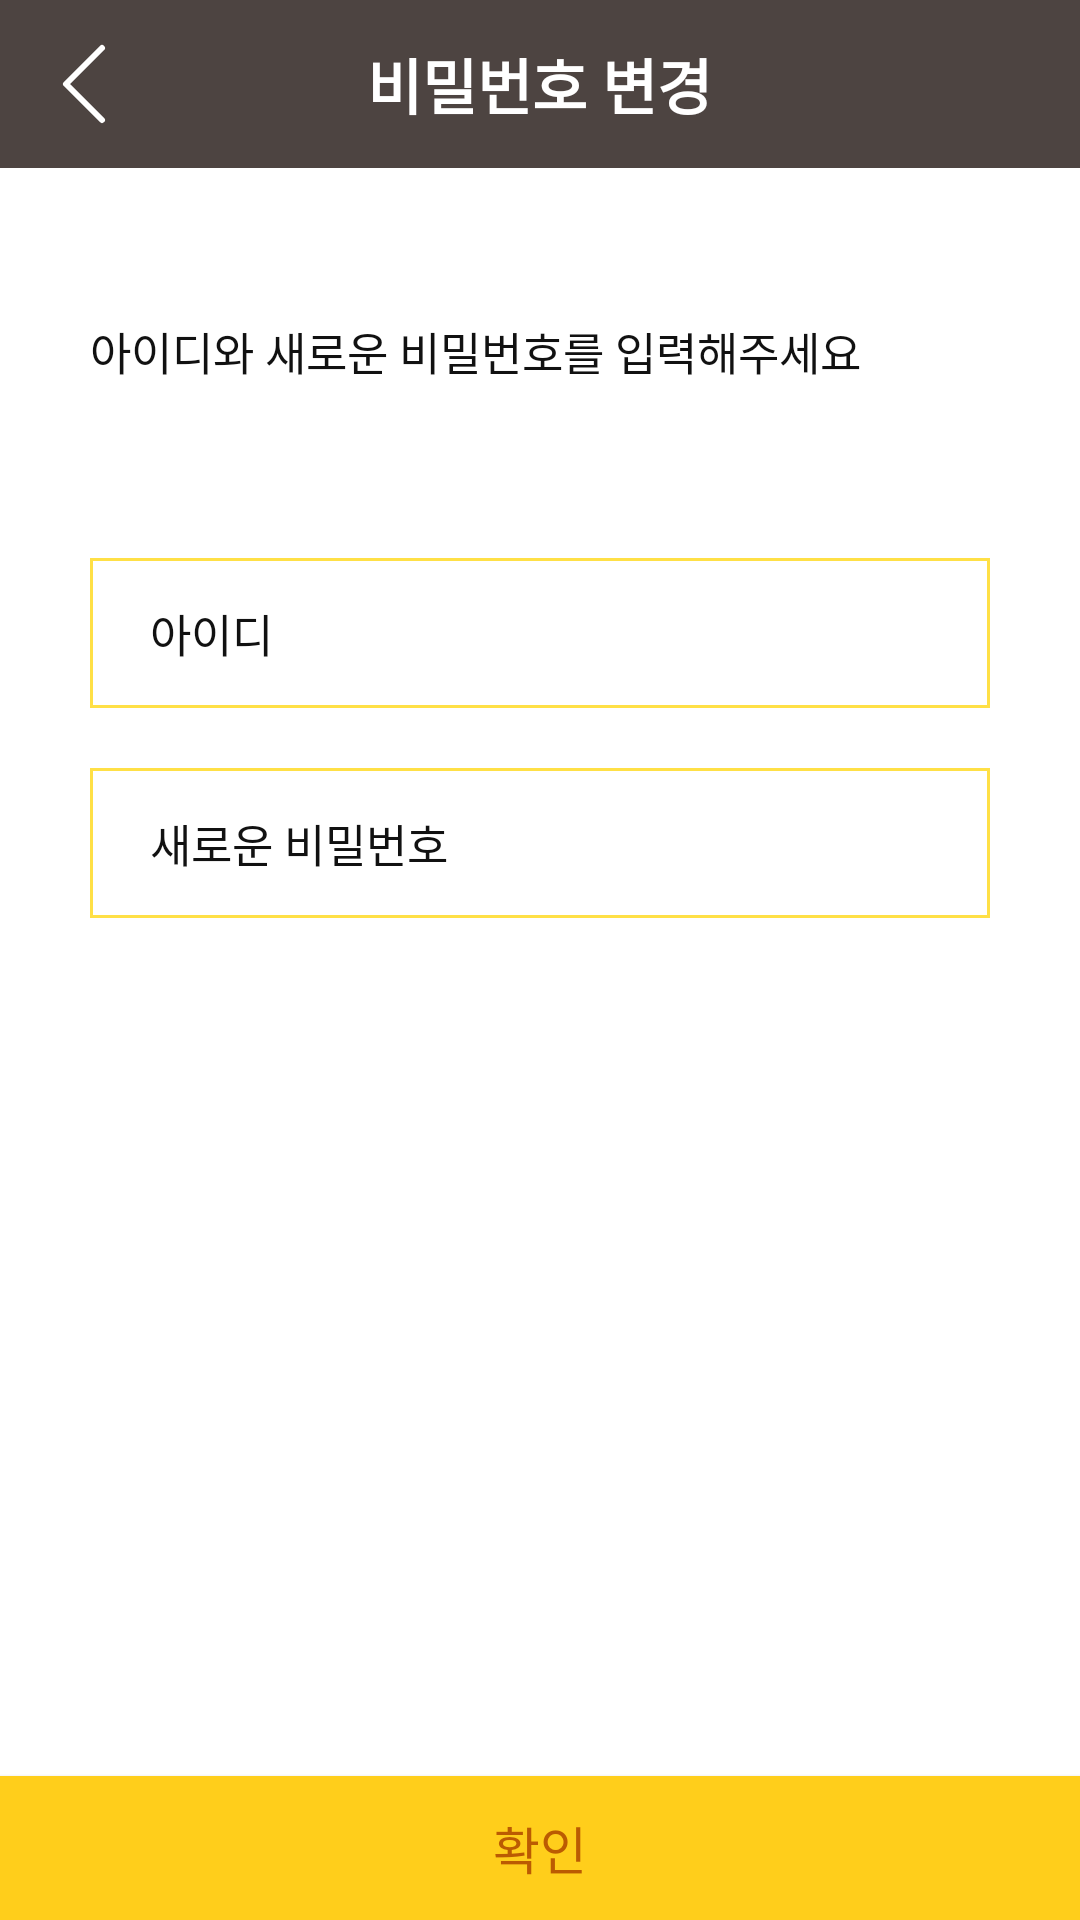

Locate icon controls on the screen. Image size 1080×1920, boxes as (x1, y1, x2, y2).
back: (63, 44, 105, 123)
